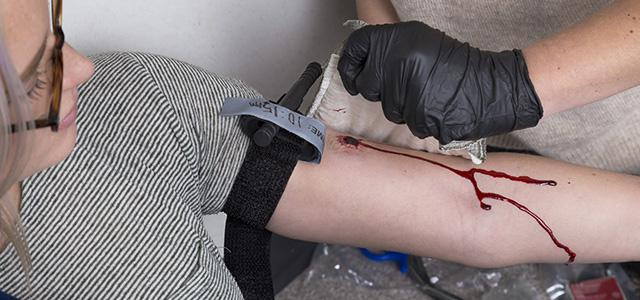gauze: (311, 24, 490, 164)
